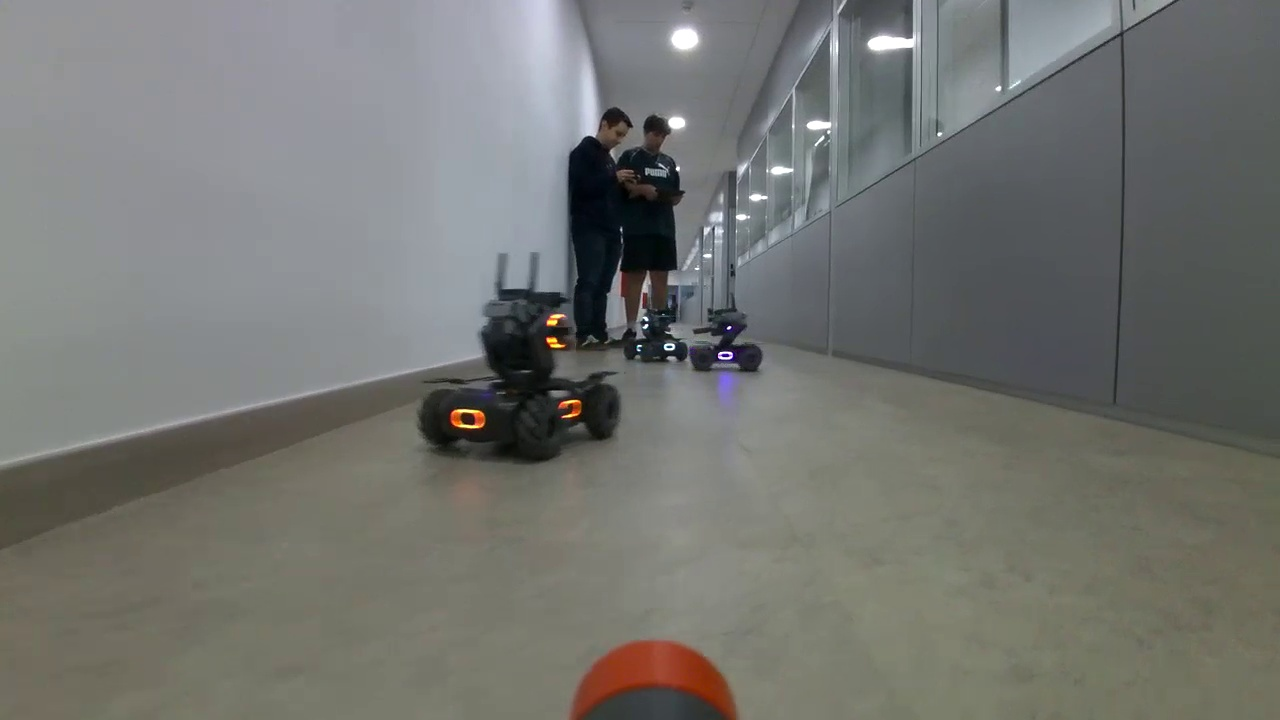robot: (416, 288, 621, 462), (690, 308, 764, 373), (622, 305, 689, 364)
